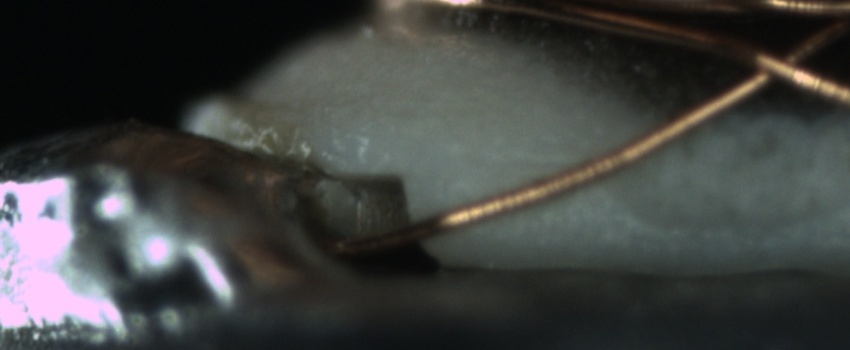CL: (697, 25, 843, 116)
DL: (477, 146, 586, 188)
